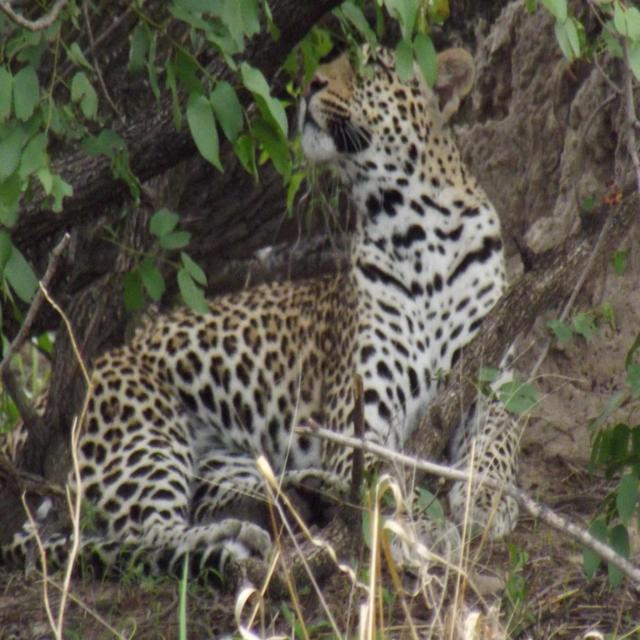Leopard: (0, 29, 541, 596)
